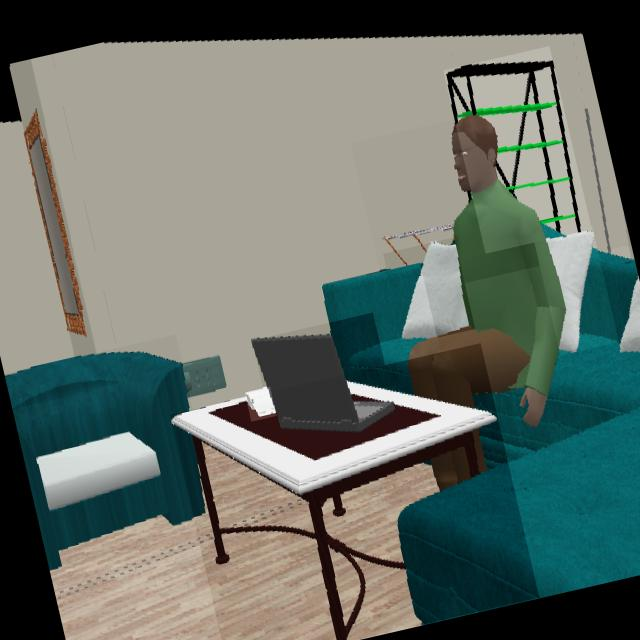book: (244, 387, 276, 419)
laptop: (253, 334, 396, 439)
person: (404, 116, 570, 426)
pillow: (401, 243, 469, 340), (546, 233, 594, 351), (621, 278, 640, 354)
shelf: (446, 61, 580, 231)
sofa: (397, 252, 640, 625), (5, 352, 203, 570), (323, 265, 420, 392)
table: (172, 382, 498, 640)
